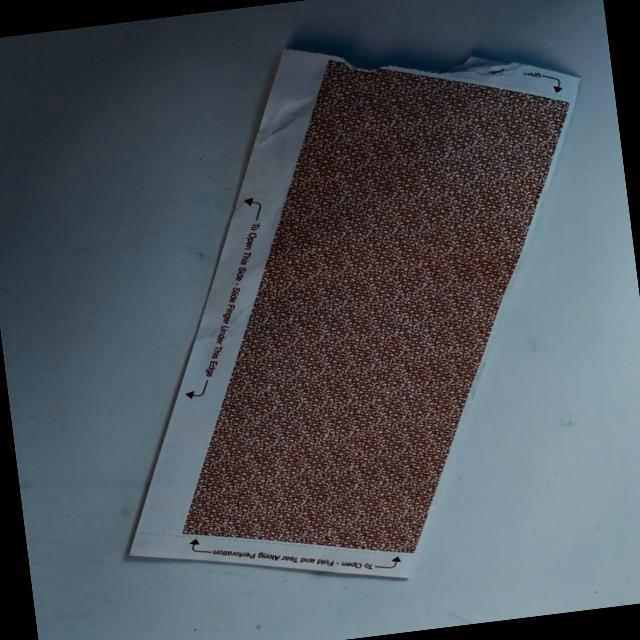paper: (67, 12, 638, 614)
